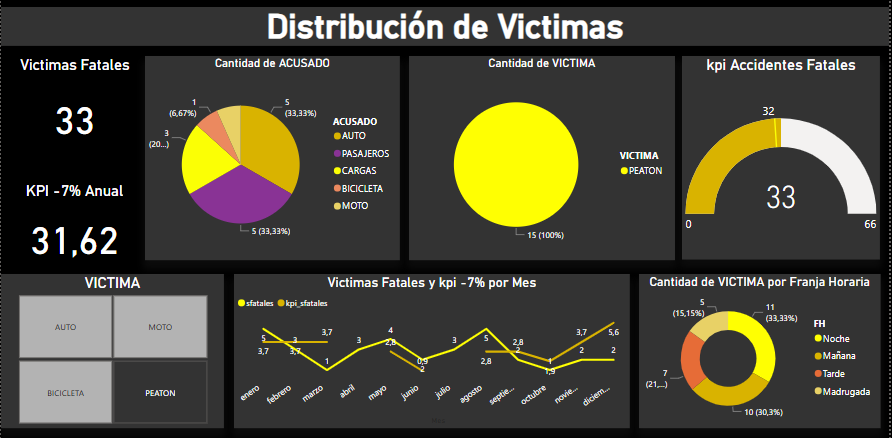

This screenshot's page, from the dashboard's own definition file:
{"tool":"powerbi","page":{"name":"Fatales -7%","canvas":[1280,720],"ordinal":4},"visuals":[{"type":"card","title":"Victimas Fatales","fields":{"Values":["pi_da hechos.sfatales"]},"box":[7.9,92.1,195.2,147.6],"z":0},{"type":"card","title":"KPI -7% Anual","fields":{"Values":["pi_da hechos.kpi_sfatales"]},"box":[8.6,274.3,194.3,131.4],"z":1000},{"type":"pieChart","title":"Cantidad de ACUSADO","fields":{"Category":["pi_da hechos.ACUSADO"],"Y":["CountNonNull(pi_da hechos.ACUSADO)"]},"box":[207.9,92.1,366.7,293.7],"z":2000},{"type":"pieChart","title":"Cantidad de VICTIMA","fields":{"Category":["pi_da hechos.VICTIMA"],"Y":["CountNonNull(pi_da hechos.VICTIMA)"]},"box":[587.3,92.1,382.5,293.7],"z":3000},{"type":"lineChart","title":"Victimas Fatales y kpi -7% por Mes","fields":{"Y":["pi_da hechos.sfatales","pi_da hechos.kpi_sfatales"],"Category":["calendario.Date.Variación.Jerarquía de fechas.Mes"]},"box":[334.9,406.3,569.8,222.2],"z":4000},{"type":"slicer","title":"VICTIMA","fields":{"Values":["pi_da hechos.VICTIMA"]},"box":[0,406.3,320.6,222.2],"z":5000},{"type":"donutChart","title":"Cantidad de VICTIMA por Franja Horaria","fields":{"Y":["CountNonNull(pi_da hechos.VICTIMA)"],"Category":["pi_da hechos.FH"]},"box":[919,406.3,347.6,222.2],"z":6000},{"type":"slicer","fields":{"Values":["calendario.Date.Variación.Jerarquía de fechas.Año"]},"box":[0,642.2,1279.4,77.8],"z":7000},{"type":"textbox","title":"Indicador de Victimas fatales","box":[0,22.2,1279.4,55.6],"z":8000},{"type":"gauge","title":"kpi Accidentes Fatales","fields":{"Y":["pi_da hechos.sfatales"],"TargetValue":["pi_da hechos.kpi_sfatales"]},"box":[980.8,92.1,284.9,293.4],"z":9000}]}

Visuals, with their boxes on the page's 1280x720 design canvas (x1, y1, x2, y2). These are canvas units, not pixel positions in the 892x438 screenshot, which may show the page scaled, cropped or inside an application window:
"Victimas Fatales" card: [left=8, top=92, right=203, bottom=240]
"KPI -7% Anual" card: [left=9, top=274, right=203, bottom=406]
"Cantidad de ACUSADO" pieChart: [left=208, top=92, right=575, bottom=386]
"Cantidad de VICTIMA" pieChart: [left=587, top=92, right=970, bottom=386]
"Victimas Fatales y kpi -7% por Mes" lineChart: [left=335, top=406, right=905, bottom=628]
"VICTIMA" slicer: [left=0, top=406, right=321, bottom=628]
"Cantidad de VICTIMA por Franja Horaria" donutChart: [left=919, top=406, right=1267, bottom=628]
slicer - calendario.Date.Variación.Jerarquía de fechas.Año: [left=0, top=642, right=1279, bottom=720]
"Indicador de Victimas fatales" textbox: [left=0, top=22, right=1279, bottom=78]
"kpi Accidentes Fatales" gauge: [left=981, top=92, right=1266, bottom=386]
